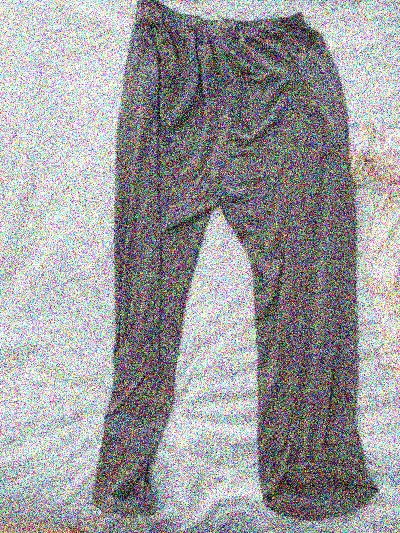Pants: (65, 0, 380, 509)
